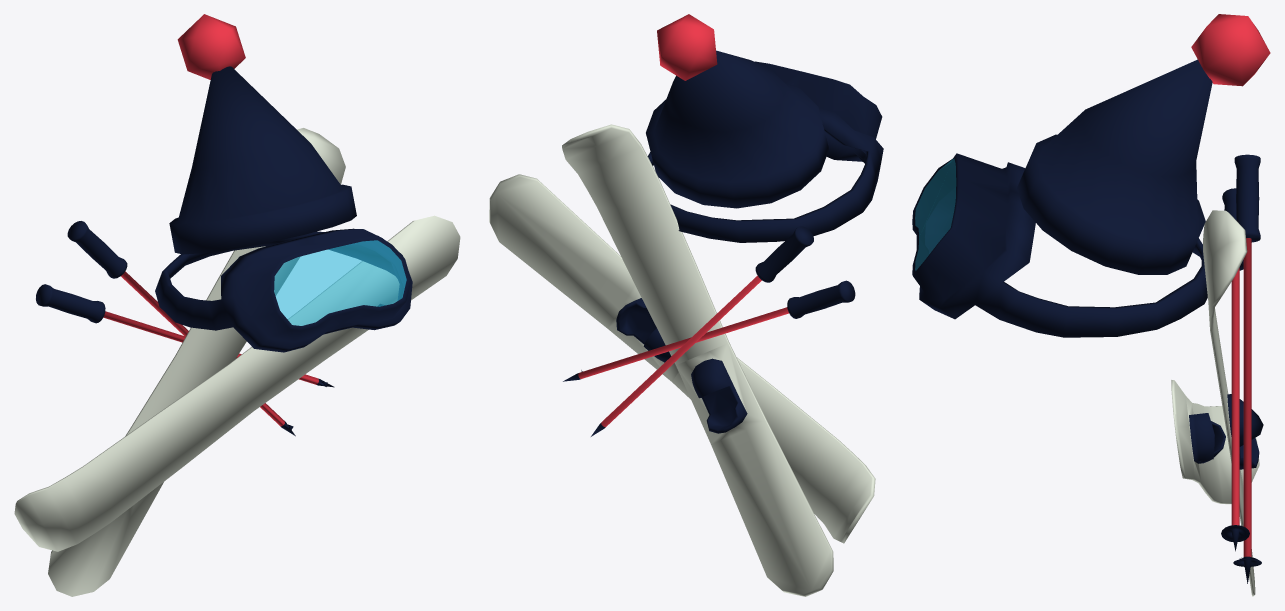
Rendered from otter_ski.fbx.
3 views of the same model, side by side, from view 1: azimuth 30°, elevation 25°; view 2: azimuth 150°, elevation 25°; view 3: azimuth 270°, elevation 25° (orthographic). The views are drawn at different scales.
Parts seen in each view (by area): view 1: SkiSet, Hat, Goggles; view 2: SkiSet, Hat, Goggles; view 3: Hat, Goggles, SkiSet.
Boxes of the visible parts, box(x1,y1,x2,y2) form: SkiSet: box(14, 128, 460, 596); Hat: box(169, 14, 356, 254); Goggles: box(155, 228, 412, 352); SkiSet: box(489, 124, 875, 596); Hat: box(646, 14, 828, 208); Goggles: box(647, 61, 883, 242); Hat: box(1017, 14, 1270, 274); Goggles: box(912, 153, 1207, 337); SkiSet: box(1171, 154, 1263, 596).
Bounding box in the file's own units: 308 × 388 × 196.
